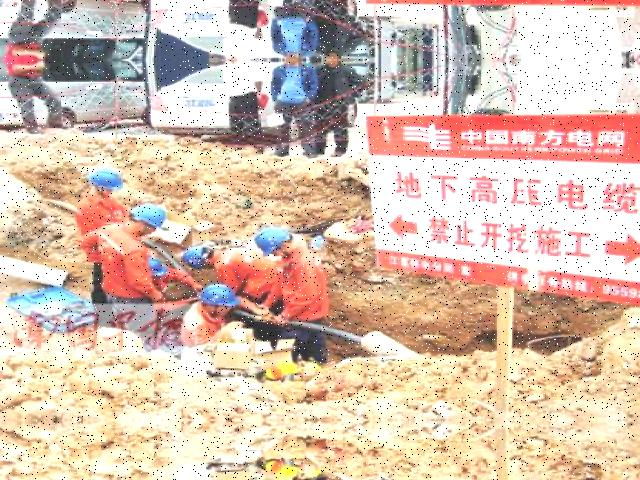Helmet: (248, 224, 296, 258), (122, 199, 171, 229), (193, 280, 241, 310), (85, 165, 126, 191), (175, 243, 209, 270)
